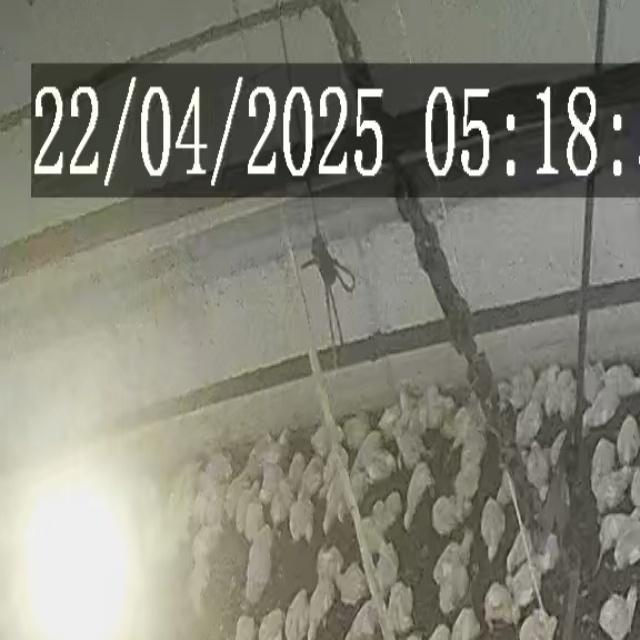chicken: (352, 428, 398, 488), (358, 490, 402, 552), (596, 512, 638, 570), (582, 376, 624, 429), (588, 437, 618, 510), (433, 534, 474, 586), (323, 468, 354, 536), (331, 554, 370, 608), (401, 462, 437, 520), (452, 454, 483, 517), (598, 590, 635, 639), (523, 442, 552, 501), (370, 541, 400, 598), (483, 580, 517, 630), (514, 395, 545, 449), (386, 581, 416, 635), (257, 454, 287, 508), (306, 579, 334, 636), (393, 426, 426, 474), (283, 584, 311, 638), (508, 558, 537, 610), (448, 402, 478, 452), (424, 381, 453, 432), (343, 599, 379, 640), (430, 494, 462, 540), (602, 363, 639, 402), (246, 552, 276, 600), (481, 498, 505, 558), (288, 493, 316, 543), (316, 544, 345, 592), (440, 565, 471, 609), (615, 413, 640, 466), (506, 363, 537, 403), (188, 562, 211, 614), (341, 414, 372, 452), (535, 531, 561, 575), (237, 476, 259, 528), (243, 498, 267, 544), (298, 458, 322, 502), (378, 402, 404, 438), (286, 452, 308, 494), (224, 478, 248, 516), (495, 466, 516, 509), (457, 525, 475, 561), (632, 463, 640, 511)
